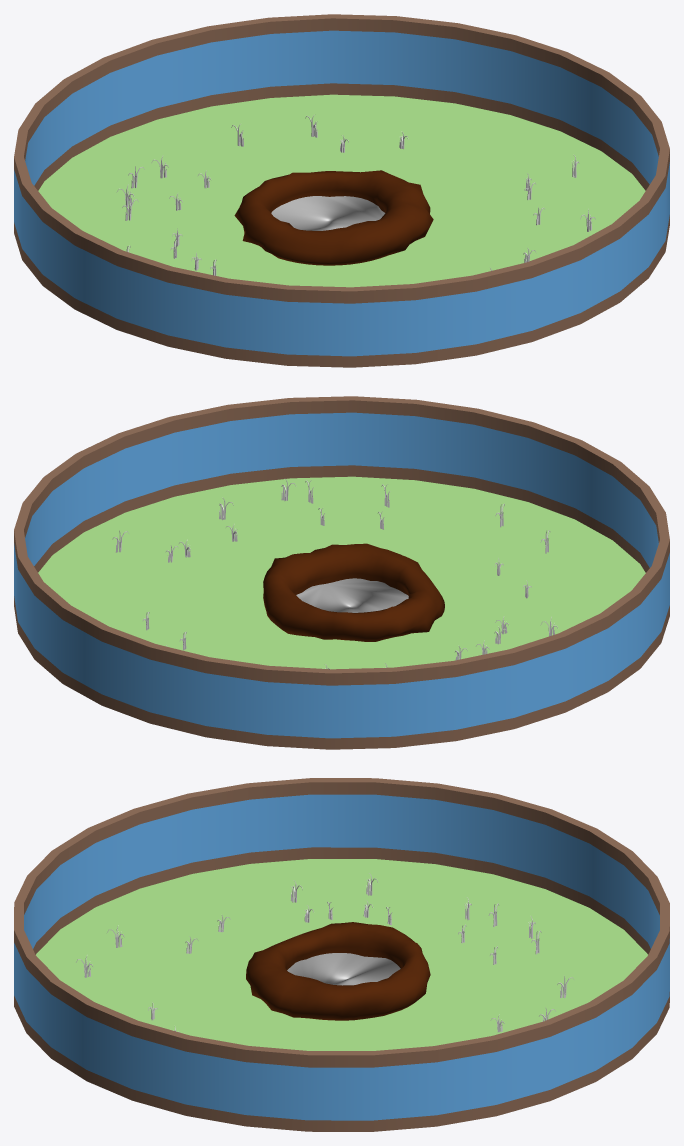
Rendered from chicken farm 1.fbx.
3 views of the same model, one above another, from view 1: azimuth 30°, elevation 25°; view 2: azimuth 150°, elevation 25°; view 3: azimuth 270°, elevation 25° (orthographic).
Parts seen in each view (by area): view 1: Circle.001, Cube.030; view 2: Circle.001, Cube.030; view 3: Circle.001, Cube.030.
Part boxes in pixels (x1,y1,x2,y2): Circle.001: [14, 14, 669, 367]; Cube.030: [116, 115, 595, 275]; Circle.001: [14, 396, 669, 749]; Cube.030: [112, 479, 557, 669]; Circle.001: [14, 778, 669, 1131]; Cube.030: [76, 873, 573, 1038].
Size of the model in its own units: 385 by 49.84 by 385.
